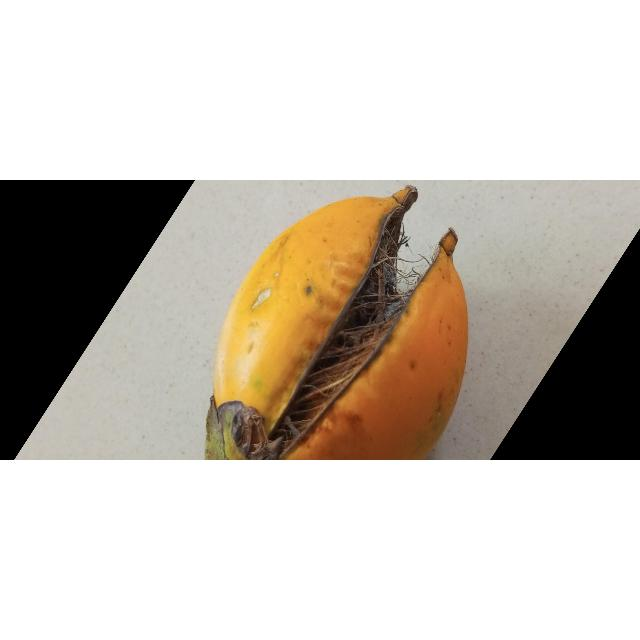damaged: (205, 186, 468, 461)
